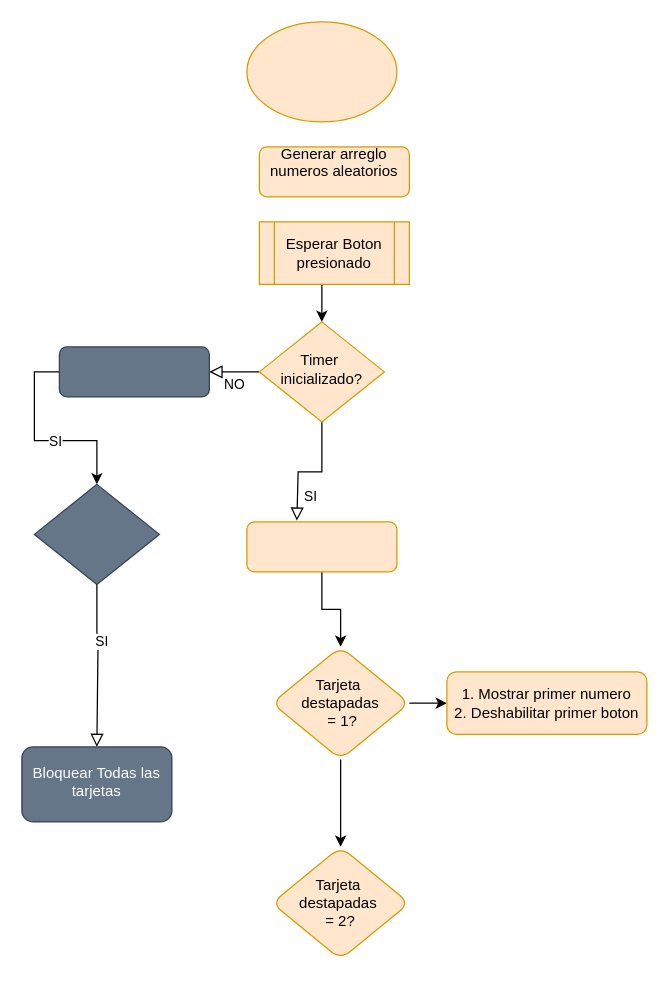
The diagram is 669 pixels wide and 981 high, and some of its shapes have lost their labels. The box of each missing label's shape, as (x1, y1, x2, y2) in pixels:
Aumentar contador tarjetas destapadas: (246, 521, 397, 572)
Conteo Regresivo Timer: (58, 346, 209, 397)
Inicio: (246, 21, 397, 122)
Timer = 0?: (33, 483, 159, 584)
